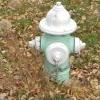a fire hydrant: (39, 6, 77, 79)
